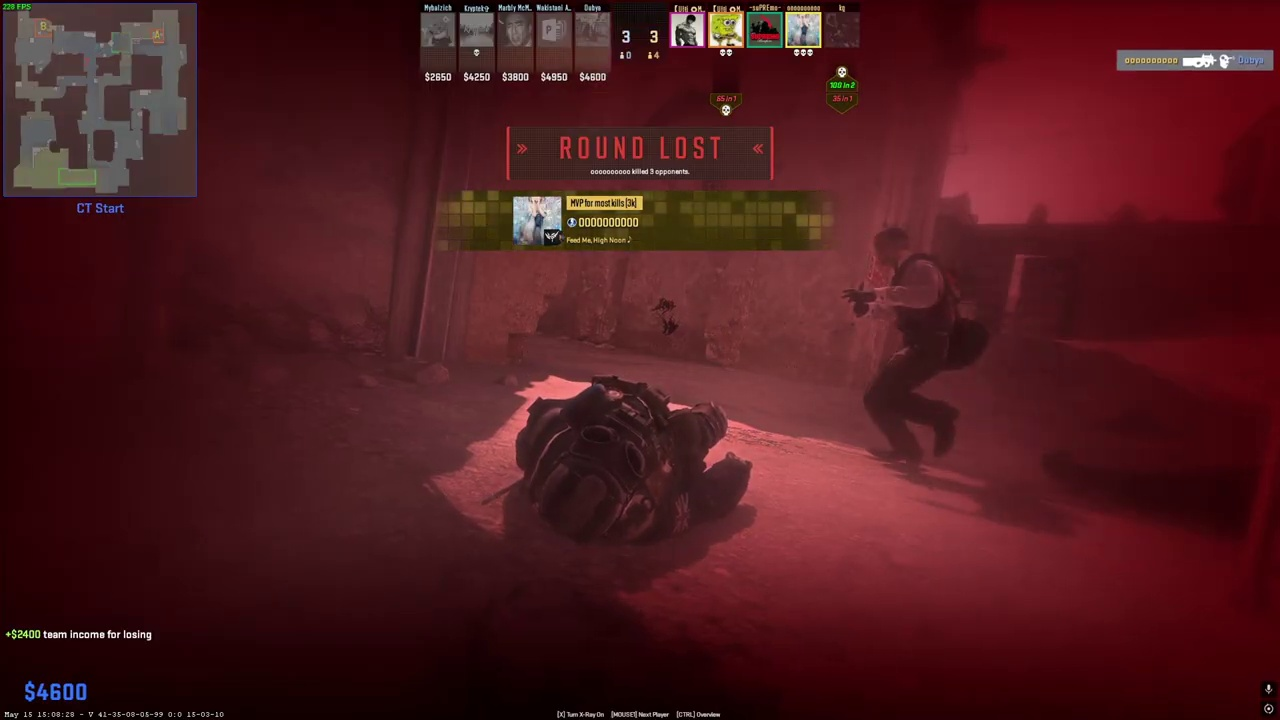Terrorist: (855, 226, 966, 477)
